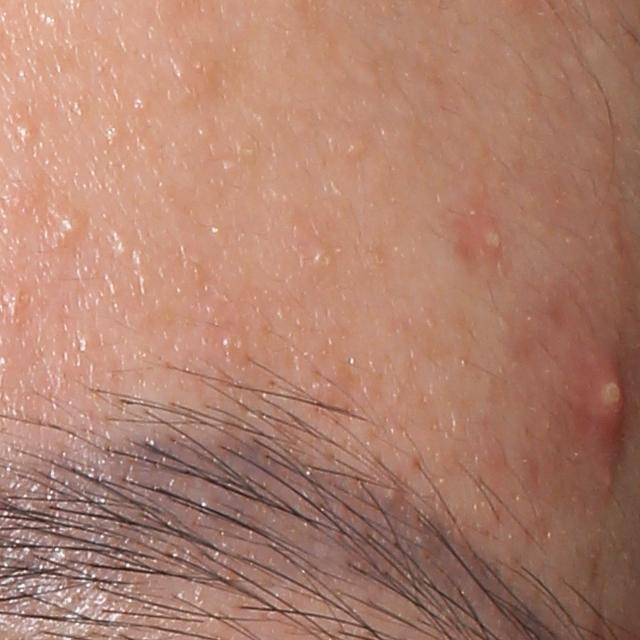comedo: (303, 248, 337, 275), (14, 113, 40, 146), (345, 135, 364, 159)
pustule: (579, 347, 630, 449), (460, 209, 513, 266)
